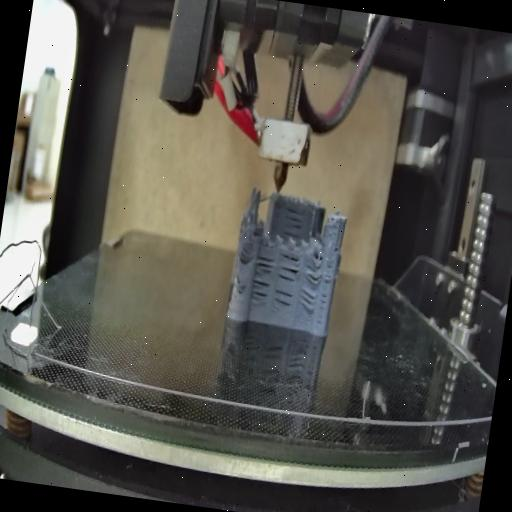cracks: (316, 260, 336, 326), (250, 254, 276, 304), (280, 205, 308, 239), (276, 252, 300, 282), (302, 257, 324, 289), (271, 286, 294, 312), (300, 290, 317, 314), (238, 245, 254, 262), (330, 238, 342, 254), (234, 274, 244, 289)
